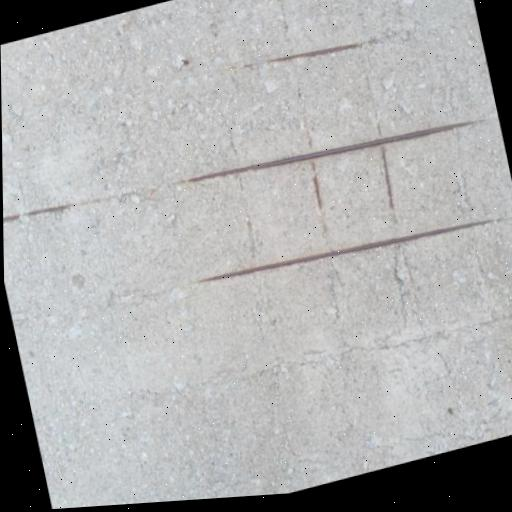exposed_rebar: (182, 119, 478, 211), (203, 219, 492, 283), (263, 41, 365, 65), (23, 197, 100, 218), (3, 213, 21, 224), (243, 62, 257, 69)
